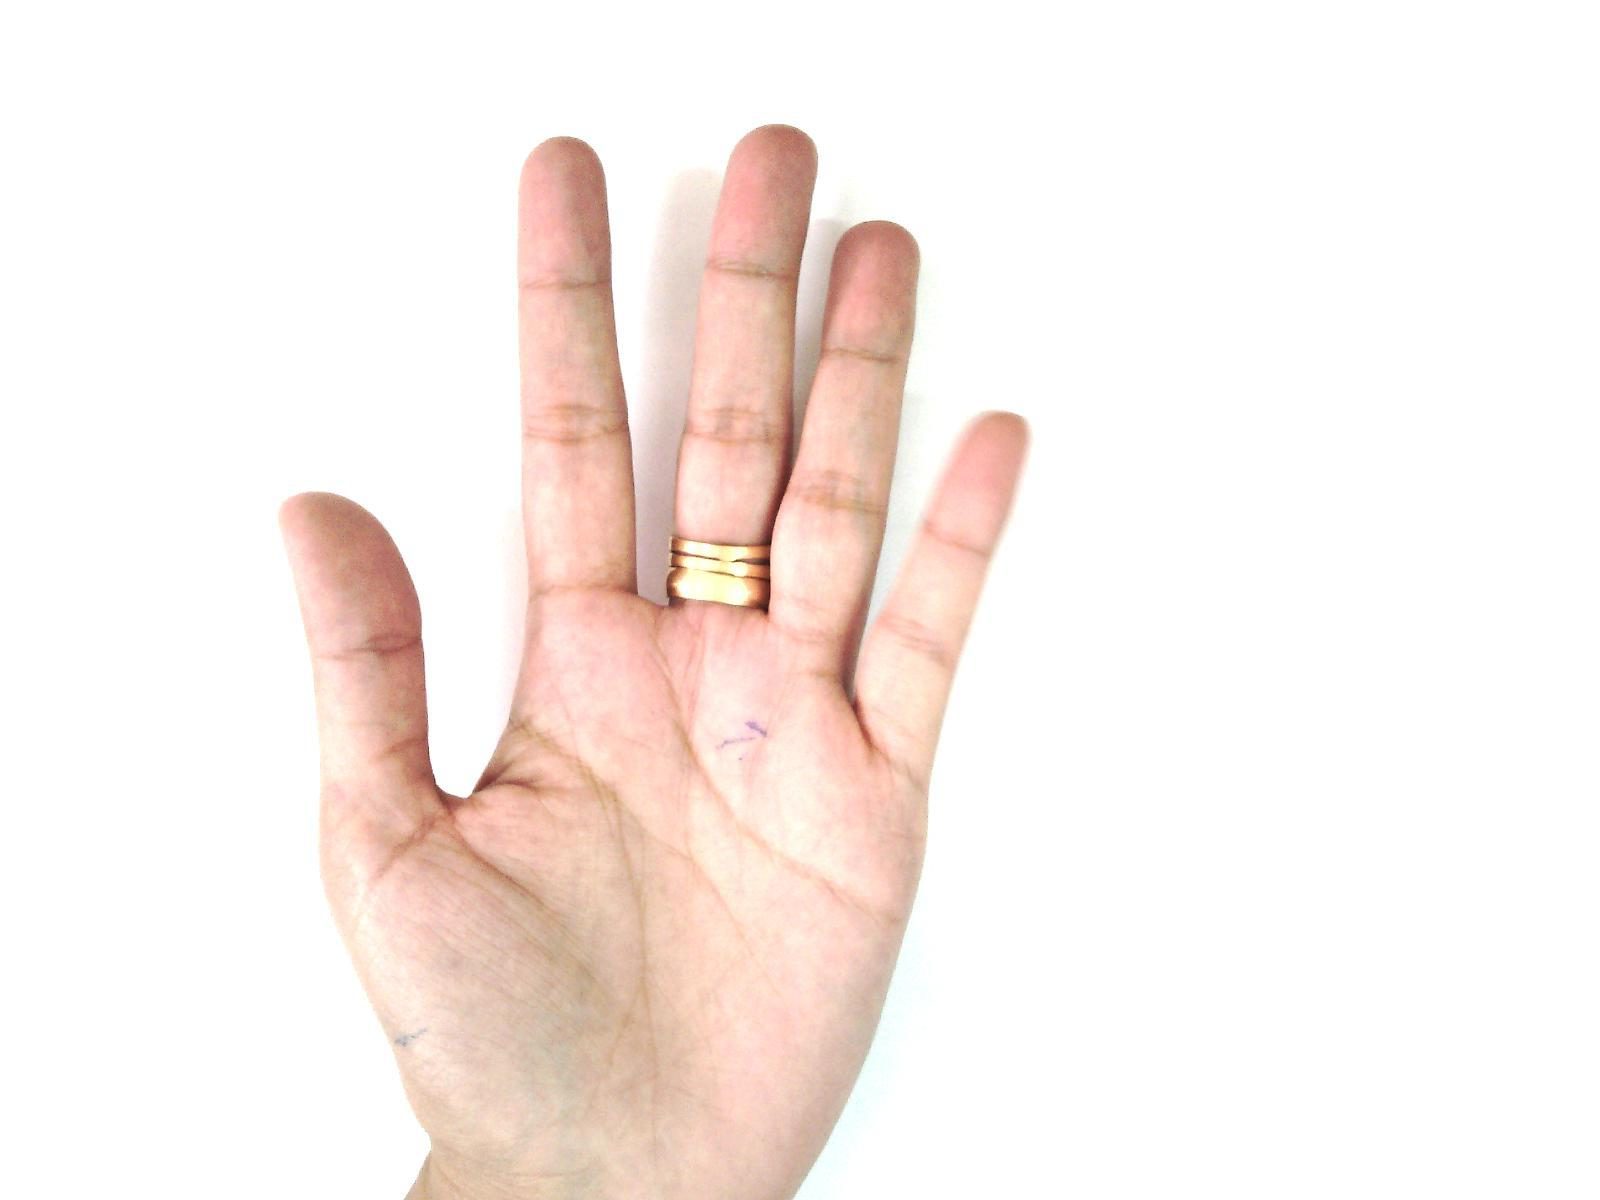hand: (266, 115, 1034, 1200)
